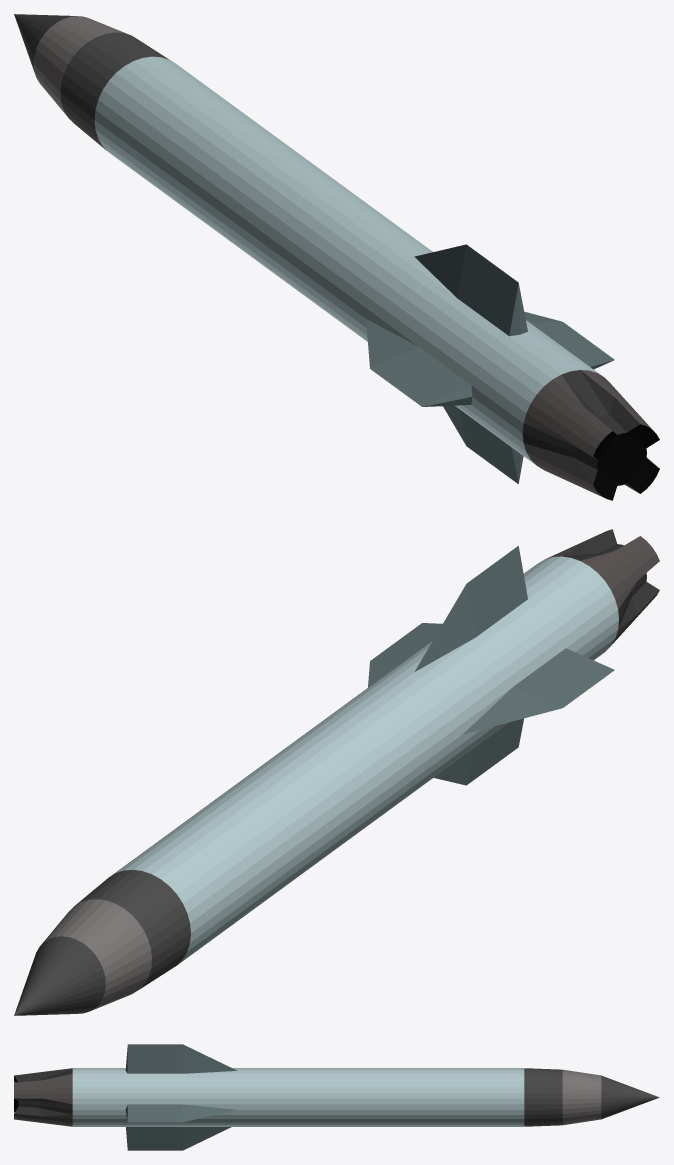
File: player_bullet.obj
3 views of the same model, one above another, from view 1: azimuth 30°, elevation 25°; view 2: azimuth 150°, elevation 25°; view 3: azimuth 270°, elevation 25° (orthographic). The views are drawn at different scales.
Parts seen in each view (by area): view 1: 円錐; view 2: 円錐; view 3: 円錐.
Part boxes in pixels (box(x1,y1,x2,y2)): 円錐: box(14, 14, 659, 500); 円錐: box(14, 529, 659, 1015); 円錐: box(14, 1044, 659, 1150).
Bounding box in the file's own units: 1 × 1 × 5.5.
1 material, 1 textured.
